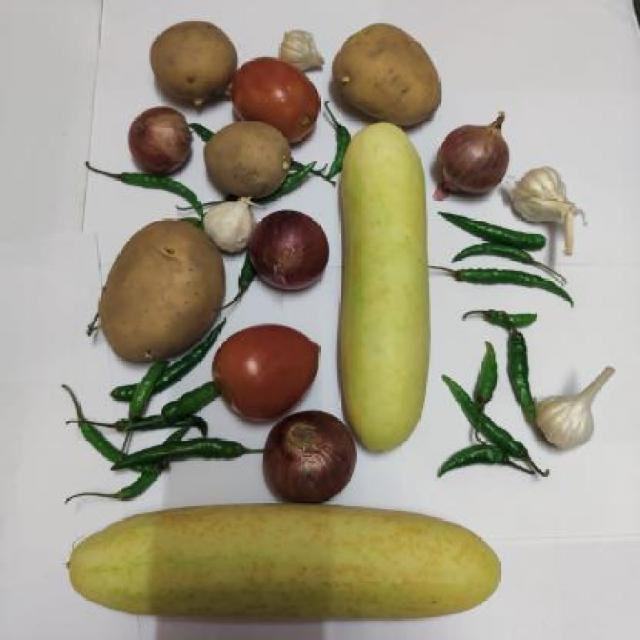Garlic: (512, 164, 598, 256), (529, 364, 617, 450), (203, 194, 257, 255), (276, 26, 324, 76)
Green Chili: (51, 362, 208, 500), (437, 302, 545, 483), (440, 206, 558, 305)
Onion: (425, 108, 517, 206), (243, 205, 332, 302), (262, 411, 356, 502)
Potato: (88, 222, 223, 363), (328, 25, 448, 129), (140, 15, 235, 101), (200, 117, 295, 200)
Tomato: (208, 309, 330, 426)
cucumber: (54, 500, 515, 626), (332, 120, 434, 452)
